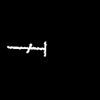double_crochet: (8, 42, 45, 55)
